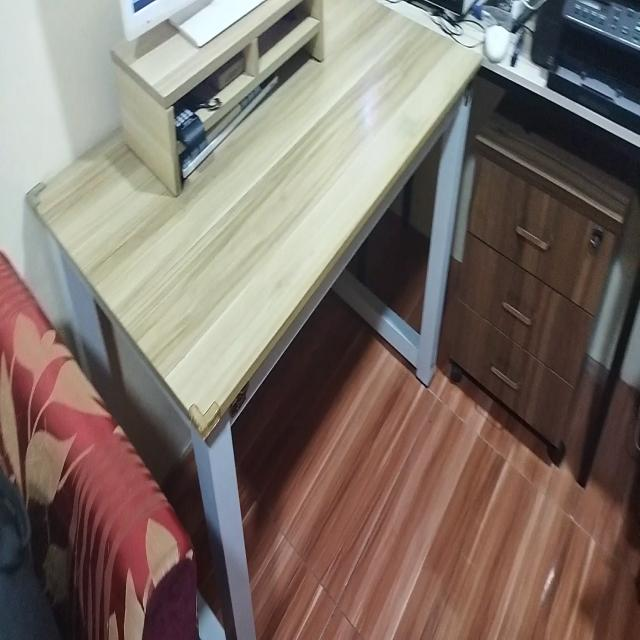table: (30, 0, 474, 489)
